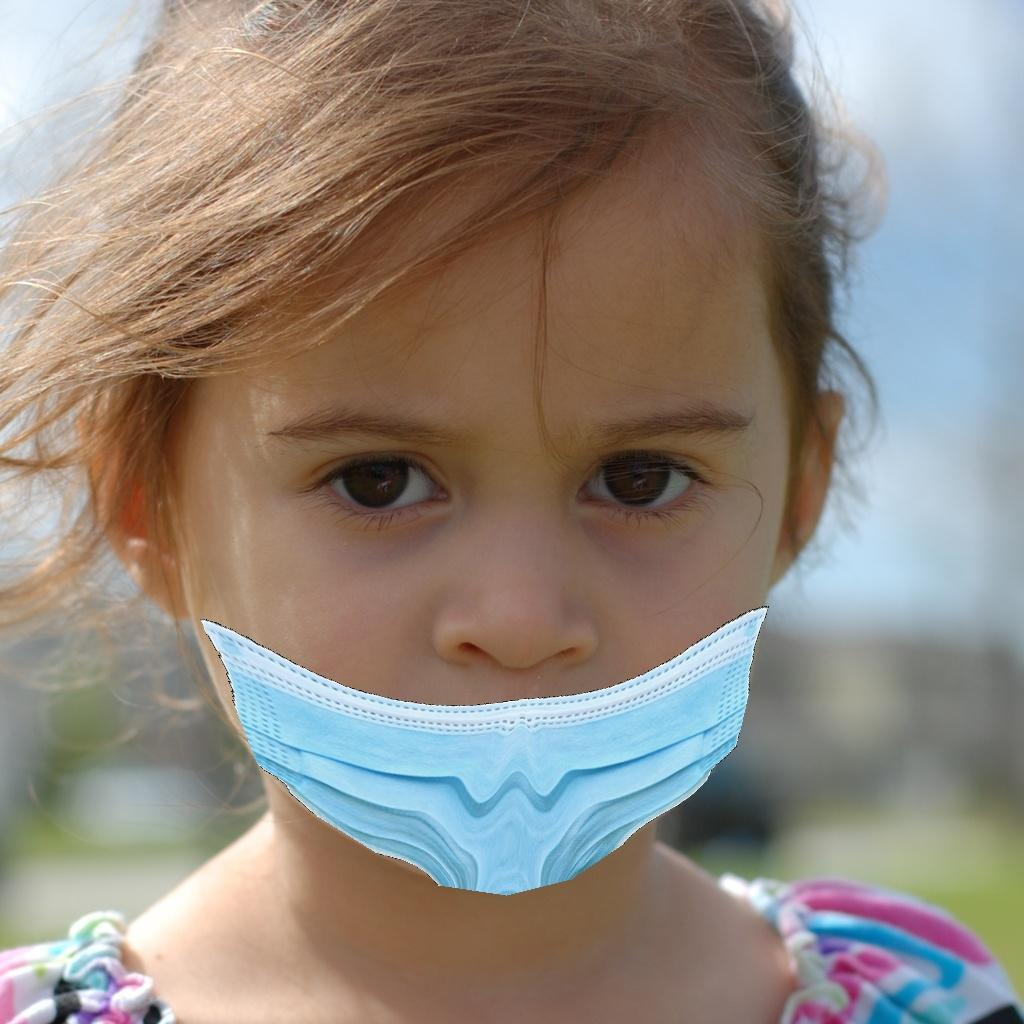Máscara Incorreta: (196, 342, 775, 896)
